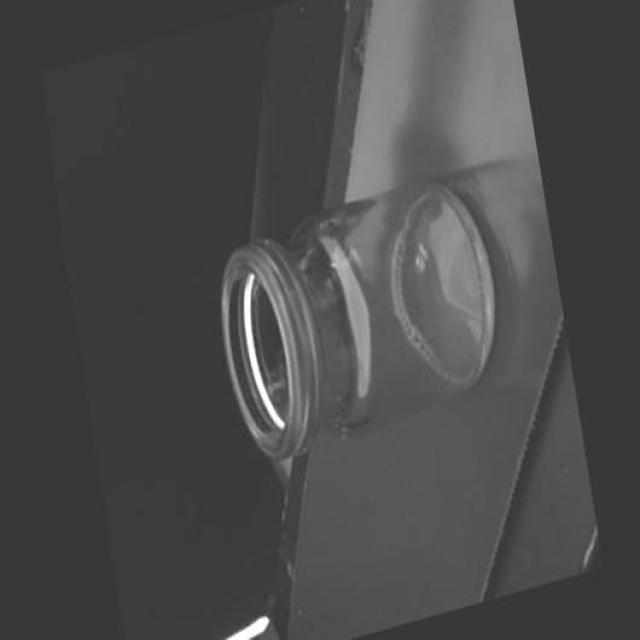defect: (328, 259, 336, 269)
glass: (196, 139, 521, 493)
